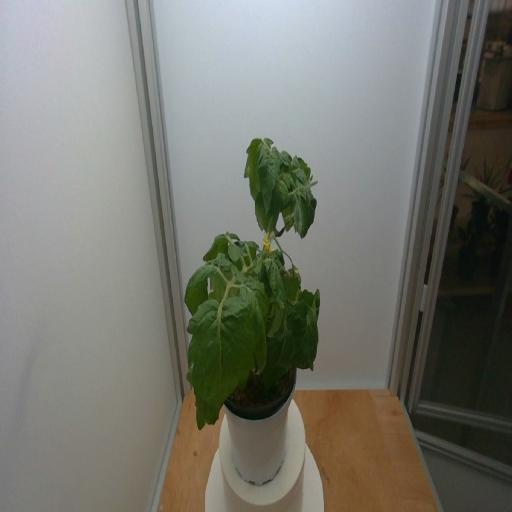Tomato-Leaves-Cupboard-: (186, 293, 248, 438), (257, 316, 298, 395), (242, 278, 270, 376), (181, 260, 218, 320), (289, 301, 320, 371), (245, 130, 272, 204), (261, 250, 289, 312), (258, 147, 280, 212), (297, 187, 319, 245), (204, 230, 240, 260), (250, 180, 268, 234), (295, 286, 323, 318), (271, 168, 291, 208), (280, 270, 302, 300), (227, 237, 245, 265), (236, 234, 254, 261), (208, 250, 230, 269), (284, 196, 296, 230), (292, 162, 308, 182), (273, 214, 286, 238), (280, 146, 295, 166), (234, 270, 246, 282)
